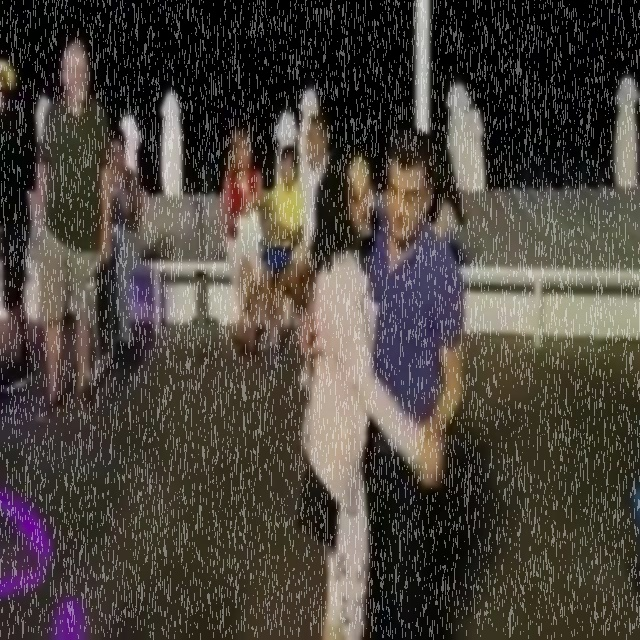pessoa: (293, 123, 474, 640), (294, 144, 454, 639), (33, 42, 113, 426), (0, 55, 39, 401), (254, 144, 308, 364), (221, 125, 267, 362), (96, 125, 144, 348), (302, 113, 346, 265)
